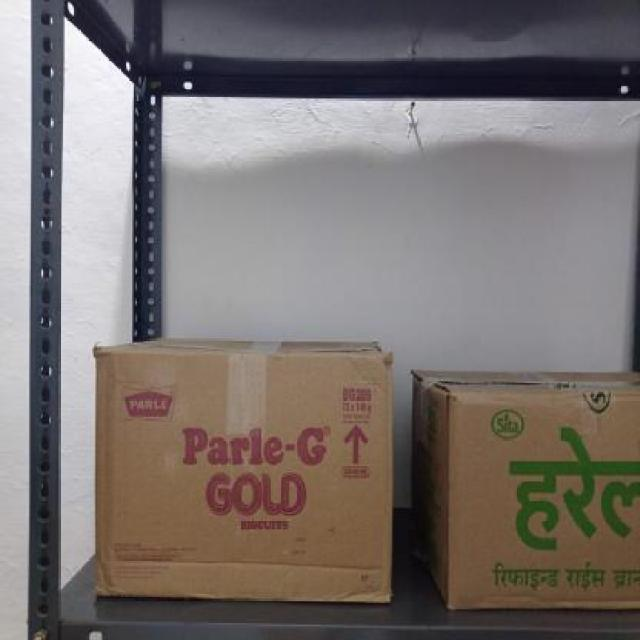box: (92, 348, 392, 606), (444, 392, 640, 606)
